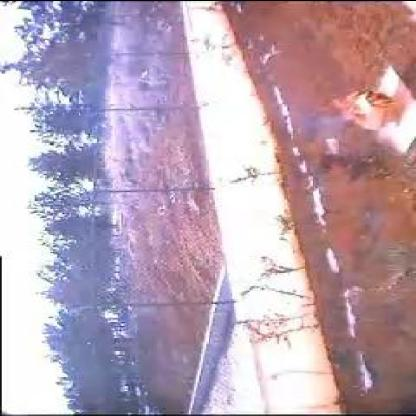-: (308, 111, 350, 133)
foggia-v2-map80-epoch100 - v1 4323: (327, 92, 361, 108)
